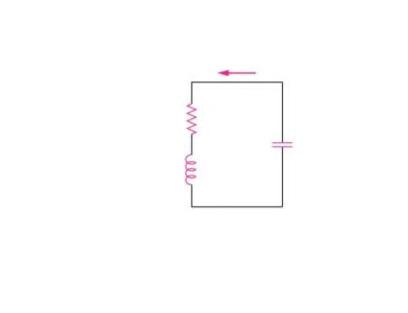resistor: (176, 91, 205, 138)
